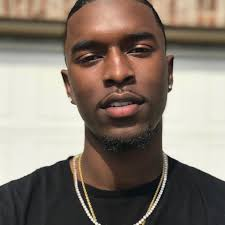no-mask: (57, 1, 181, 153)
